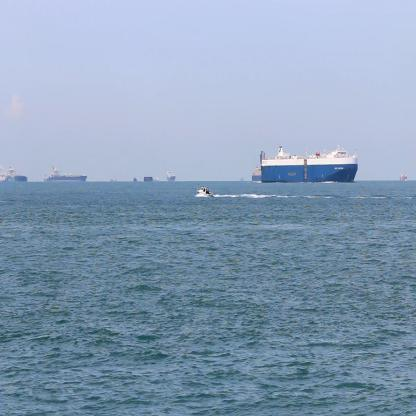Container Ship: (259, 142, 360, 186), (40, 162, 88, 184), (0, 165, 31, 184), (164, 168, 177, 184), (398, 168, 410, 185), (250, 169, 260, 183)
